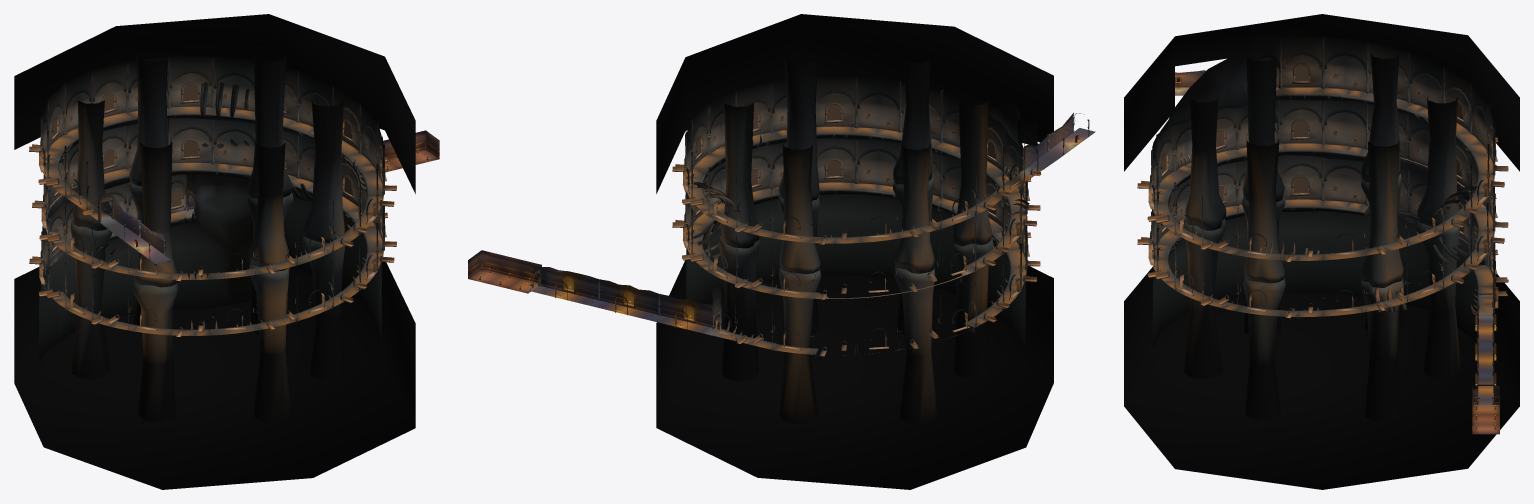
File: 09Spiral.gltf
3 renders of one model, left to right at view 1: azimuth 30°, elevation 25°; view 2: azimuth 150°, elevation 25°; view 3: azimuth 270°, elevation 25°, orthographic.
Parts seen in each view (by area): view 1: stg040_o34_Mesh_0000, stg040_o26_Mesh_0001, stg040_o53_Mesh_0005, stg040_o53_Mesh_0007, stg040_o34_Mesh_0005, stg040_o26_Mesh_0011, stg040_a34_Mesh_0000, stg040_o26_Mesh_0009, stg040_o27_Mesh_0008, stg040_o26_Mesh_0010, stg040_p30_Mesh_0001, stg040_o26_Mesh_0003 (+1 smaller); view 2: stg040_o34_Mesh_0000, stg040_o26_Mesh_0001, stg040_o53_Mesh_0005, stg040_o53_Mesh_0007, stg040_o34_Mesh_0005, stg040_o26_Mesh_0011, stg040_o27_Mesh_0008, stg040_o26_Mesh_0009, stg040_o26_Mesh_0003, stg040_o26_Mesh_0010, stg040_o30_Mesh_0015, stg040_p30_Mesh_0001 (+3 smaller); view 3: stg040_o34_Mesh_0000, stg040_o26_Mesh_0001, stg040_o53_Mesh_0005, stg040_o53_Mesh_0007, stg040_o34_Mesh_0005, stg040_o26_Mesh_0011, stg040_o26_Mesh_0010, stg040_o26_Mesh_0009, stg040_o27_Mesh_0008, stg040_a34_Mesh_0000, stg040_o26_Mesh_0003, stg040_p30_Mesh_0001 (+6 smaller).
Boxes of the visible parts, <box> form: stg040_o34_Mesh_0000: <box>14,14,415,489</box>; stg040_o26_Mesh_0001: <box>40,54,438,423</box>; stg040_o53_Mesh_0005: <box>39,115,439,360</box>; stg040_o53_Mesh_0007: <box>40,69,439,335</box>; stg040_o34_Mesh_0005: <box>42,73,383,262</box>; stg040_o26_Mesh_0011: <box>42,56,383,234</box>; stg040_a34_Mesh_0000: <box>39,190,312,360</box>; stg040_o26_Mesh_0009: <box>29,93,396,337</box>; stg040_o27_Mesh_0008: <box>39,82,438,330</box>; stg040_o26_Mesh_0010: <box>43,102,382,271</box>; stg040_p30_Mesh_0001: <box>45,84,382,260</box>; stg040_o26_Mesh_0003: <box>39,100,386,330</box>; stg040_o34_Mesh_0000: <box>656,14,1053,489</box>; stg040_o26_Mesh_0001: <box>468,56,1029,424</box>; stg040_o53_Mesh_0005: <box>468,103,1073,351</box>; stg040_o53_Mesh_0007: <box>468,89,1095,353</box>; stg040_o34_Mesh_0005: <box>685,93,1027,277</box>; stg040_o26_Mesh_0011: <box>686,76,1026,219</box>; stg040_o27_Mesh_0008: <box>468,102,1028,350</box>; stg040_o26_Mesh_0009: <box>672,113,1041,356</box>; stg040_o26_Mesh_0003: <box>533,120,1030,350</box>; stg040_o26_Mesh_0010: <box>688,122,1025,257</box>; stg040_o30_Mesh_0015: <box>468,262,718,326</box>; stg040_p30_Mesh_0001: <box>689,104,1010,223</box>; stg040_o34_Mesh_0000: <box>1124,14,1519,489</box>; stg040_o26_Mesh_0001: <box>1151,36,1495,427</box>; stg040_o53_Mesh_0005: <box>1152,45,1499,396</box>; stg040_o53_Mesh_0007: <box>1150,51,1499,425</box>; stg040_o34_Mesh_0005: <box>1152,55,1495,307</box>; stg040_o26_Mesh_0011: <box>1152,36,1494,243</box>; stg040_o26_Mesh_0010: <box>1154,83,1493,276</box>; stg040_o26_Mesh_0009: <box>1137,73,1508,318</box>; stg040_o27_Mesh_0008: <box>1148,63,1499,431</box>; stg040_a34_Mesh_0000: <box>1161,223,1480,341</box>; stg040_o26_Mesh_0003: <box>1148,117,1498,404</box>; stg040_p30_Mesh_0001: <box>1154,65,1495,302</box>.
Bounding box in the file's own units: 235 × 147 × 170.
